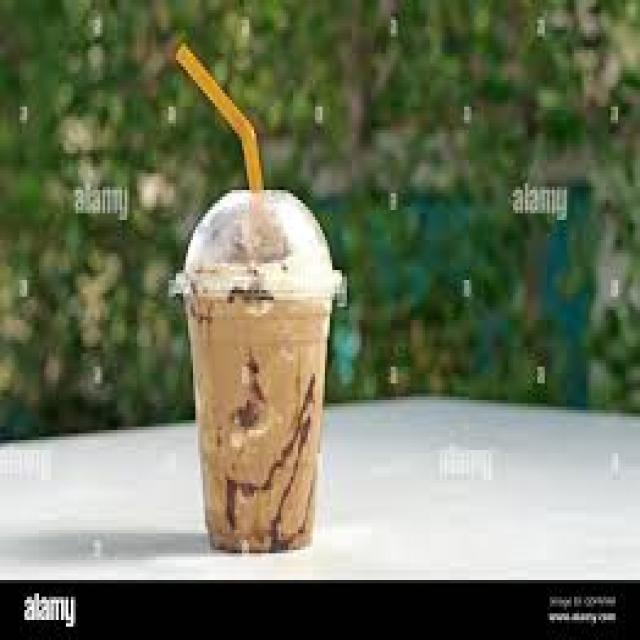bottle: (185, 295, 331, 551)
